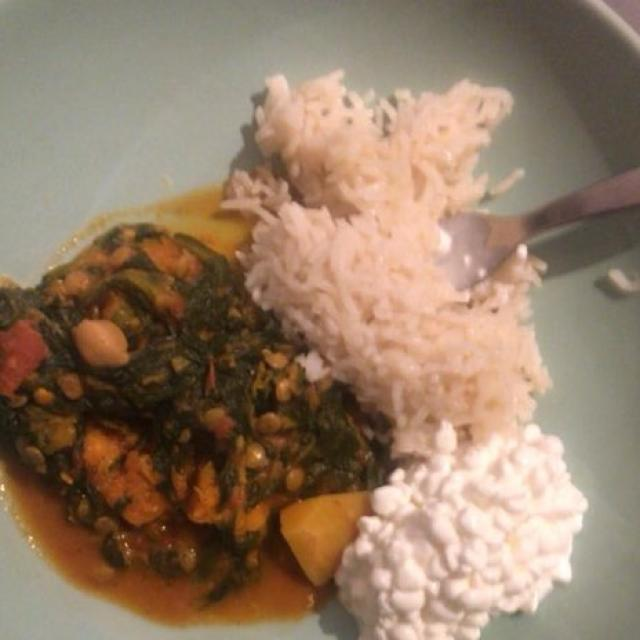chickpeas: (70, 316, 155, 372)
cottage-cheese: (329, 419, 589, 630)
curry-vegetarian: (3, 212, 409, 631)
rice: (238, 70, 544, 462)
